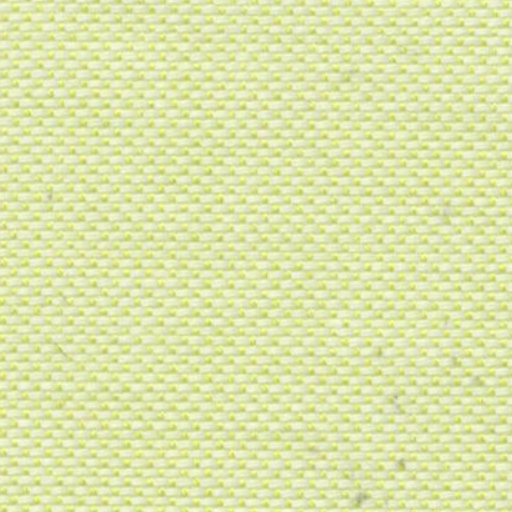WuZi: (452, 358, 489, 394), (385, 444, 420, 482), (430, 190, 458, 234), (374, 378, 408, 412), (365, 328, 391, 366), (344, 478, 374, 506)
